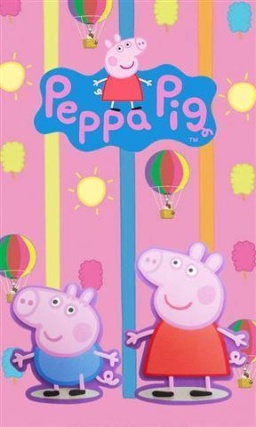Peppa: (126, 241, 248, 402)
